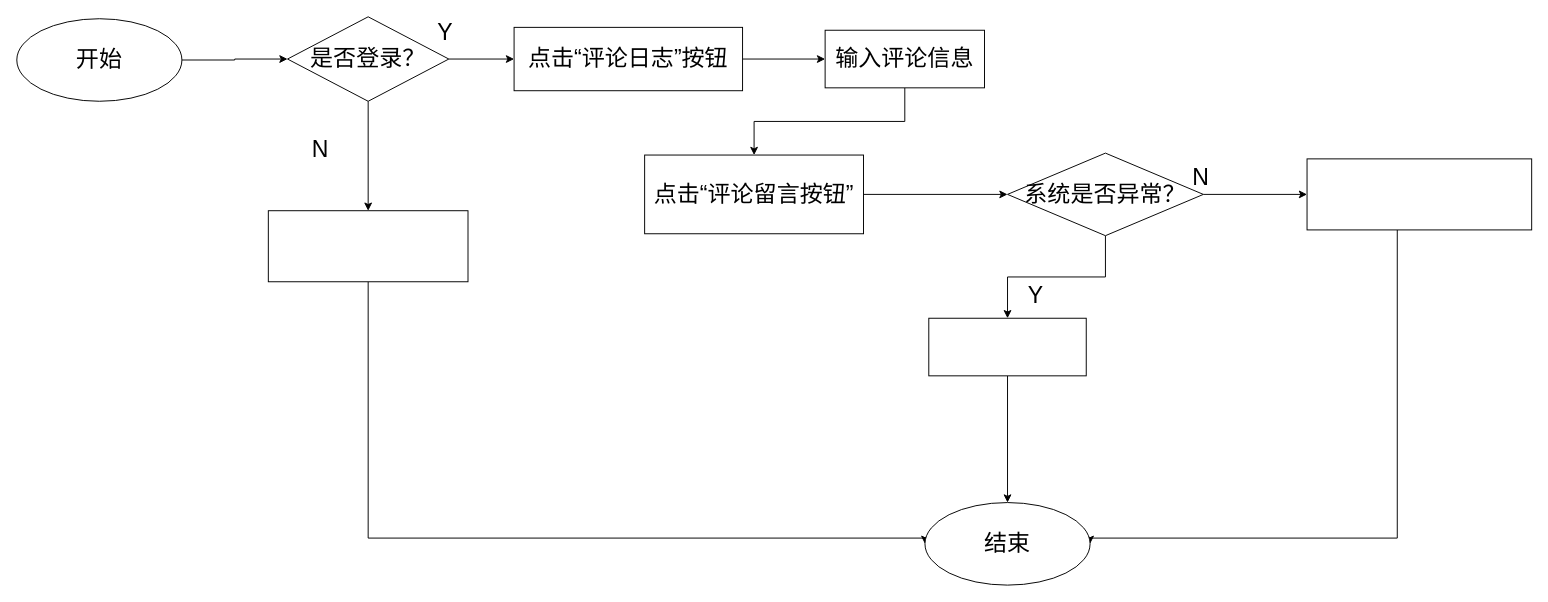
Image size: 1548x602. Some labels were removed from this diagram. The box of each missing label's shape, as (x1, y1, x2, y2) in pixels:
提示异常信息: (928, 317, 1086, 376)
没有评论博客权限: (267, 210, 468, 282)
评论后才能给并返回原界面: (1306, 158, 1532, 230)
